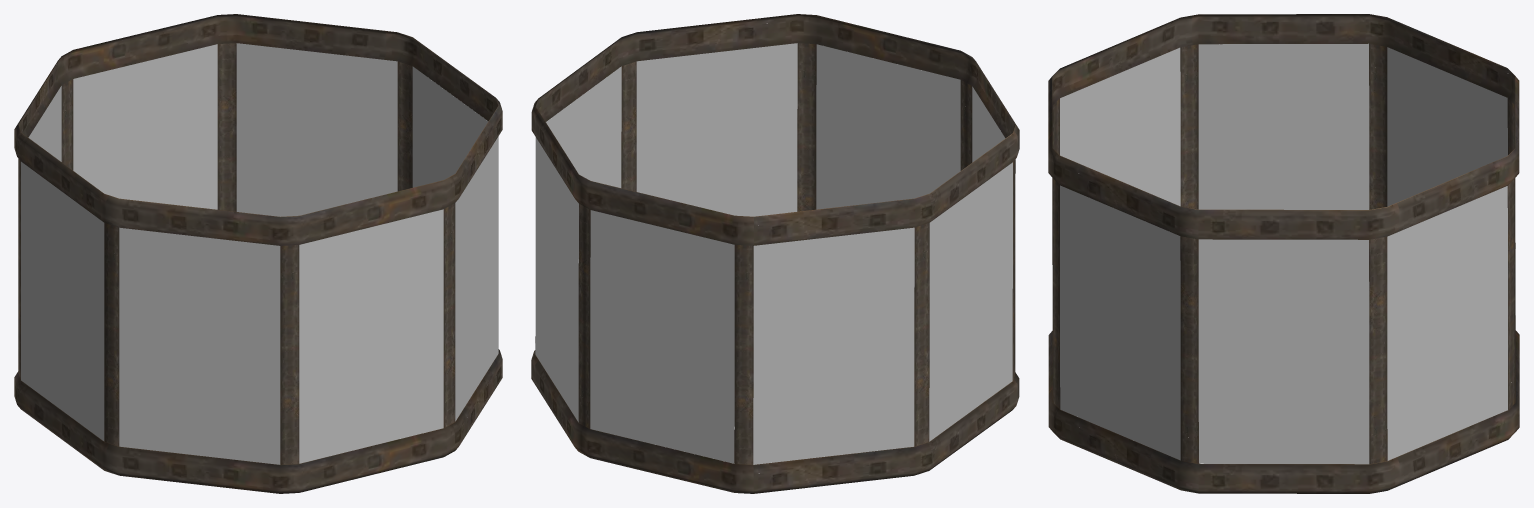
3 renders of one model, left to right at view 1: azimuth 30°, elevation 25°; view 2: azimuth 150°, elevation 25°; view 3: azimuth 270°, elevation 25°, orthographic. The views are drawn at different scales.
Parts seen in each view (by area): view 1: SM_Dowdun_Corner_Turret_06_LOD0; view 2: SM_Dowdun_Corner_Turret_06_LOD0; view 3: SM_Dowdun_Corner_Turret_06_LOD0.
Boxes of the visible parts, x1=… form: SM_Dowdun_Corner_Turret_06_LOD0: x1=14, y1=14, x2=502, y2=493; SM_Dowdun_Corner_Turret_06_LOD0: x1=531, y1=14, x2=1019, y2=493; SM_Dowdun_Corner_Turret_06_LOD0: x1=1048, y1=14, x2=1519, y2=493.
Size of the model in its own units: 6.02 by 4.01 by 6.02.
Materials: 2 (1 with a texture image).
